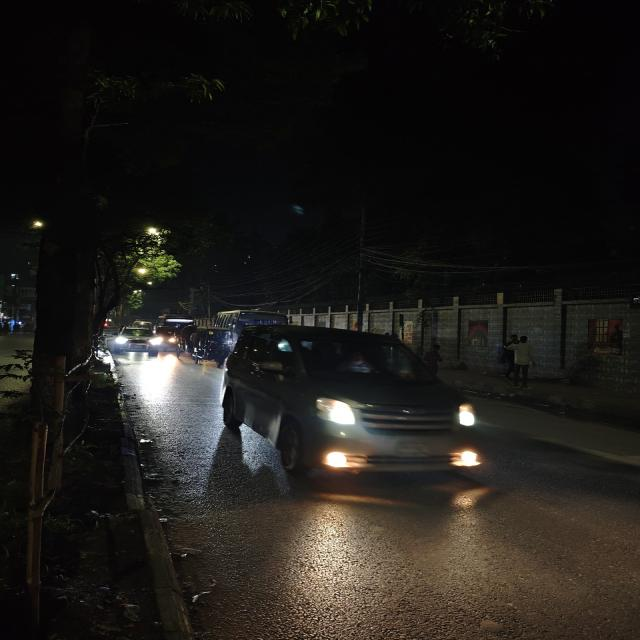bus: (214, 312, 286, 328), (156, 314, 194, 327)
car: (222, 320, 485, 486), (117, 326, 159, 356)
cng: (155, 326, 178, 350)
pedestrian: (500, 332, 539, 392)
rickshaw: (189, 326, 230, 368)
